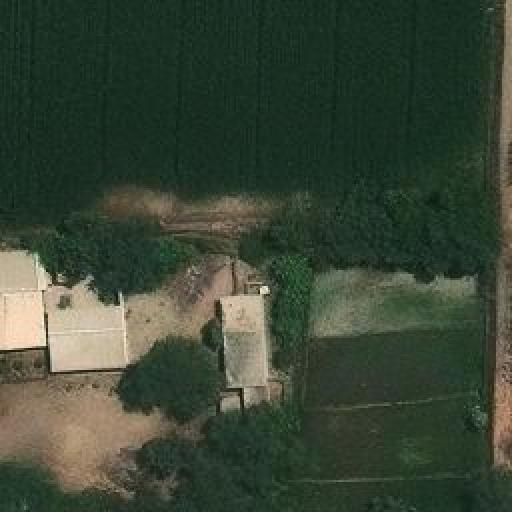manzanas: (0, 244, 133, 387), (207, 287, 277, 428)
